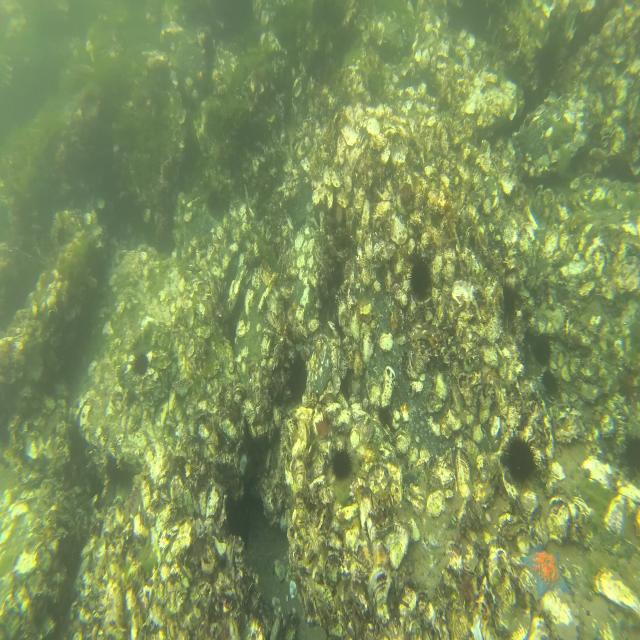echinus: (498, 429, 544, 492), (404, 247, 435, 307), (615, 425, 640, 488), (327, 439, 356, 484), (529, 329, 554, 368), (501, 277, 520, 328), (537, 367, 562, 404), (131, 349, 152, 380), (54, 224, 68, 249)
starfish: (519, 540, 570, 599), (548, 116, 577, 152)
